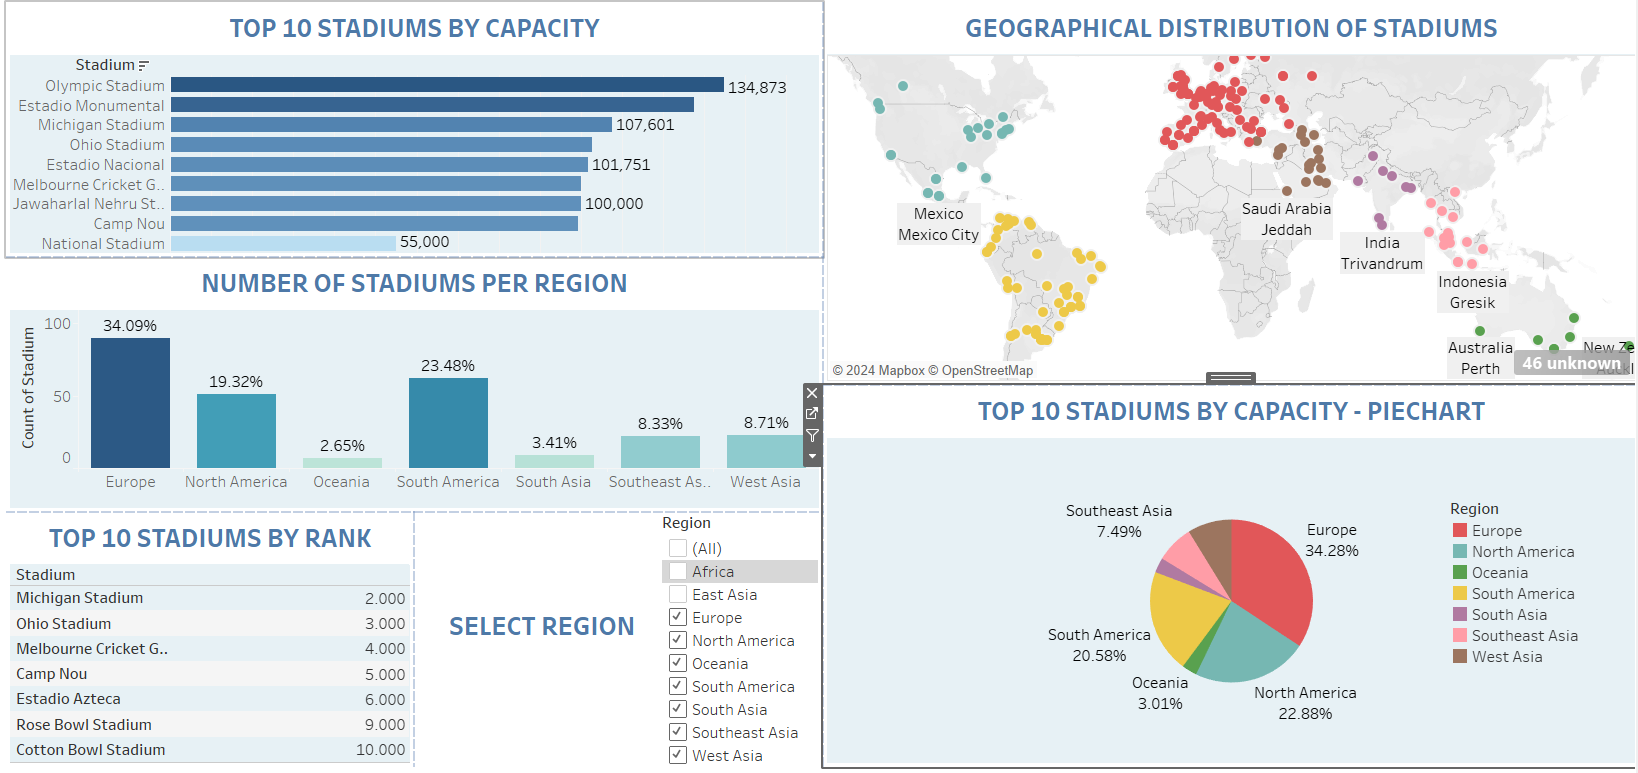

What the dashboard file says about the page in this screenshot:
{"tool":"tableau","page":{"name":"Dashboard 1","canvas":[1000,1000],"units":"permille","ordinal":0},"visuals":[{"type":"worksheet","title":"Top 10 Stadiums by Capacity","mark":"Automatic","rows":["stadium"],"cols":["capacity"],"box":[4.9,10.2,495.1,326.5]},{"type":"worksheet","title":"GEOGRAPHICAL DISTRIBUTION OF STADIUMS","mark":"Automatic","box":[500,10.2,495.2,489.8]},{"type":"worksheet","title":"Number of stadiums per region","mark":"Automatic","rows":["stadium"],"cols":["region"],"box":[4.9,336.7,495.1,326.5]},{"type":"worksheet","title":"TOP 10 STADIUMS BY CAPACITY - PIECHART","mark":"Pie","box":[500,500,495.2,489.8]},{"type":"legend","title":"GEOGRAPHICAL DISTRIBUTION OF STADIUMS","param":"[federated.1my4fqb1svqd9d0zy3w2b0u9pfrq].[none:region:nk]","box":[880,645.3,84.9,270.2]},{"type":"worksheet","title":"TOP 10 STADIUMS BY RANK","mark":"Automatic","rows":["stadium"],"box":[4.9,663.2,247.6,326.5]},{"type":"worksheet","title":"SELECT REGION","mark":"Automatic","box":[252.4,663.2,247.6,326.5]},{"type":"filter","title":"SELECT REGION","param":"[federated.1my4fqb1svqd9d0zy3w2b0u9pfrq].[none:region:nk]","box":[402.4,663.2,94.5,329.1]}]}

Visuals, with their boxes on the dashboard's canvas, which has no fixed pixel size, in thousandths of its width and height (x1, y1, x2, y2). These are canvas units, not pixel positions in the 1638x773 screenshot, which may show the page scaled, cropped or inside an application window:
"Top 10 Stadiums by Capacity" worksheet: select_region(5, 10, 500, 337)
"GEOGRAPHICAL DISTRIBUTION OF STADIUMS" worksheet: select_region(500, 10, 995, 500)
"Number of stadiums per region" worksheet: select_region(5, 337, 500, 663)
"TOP 10 STADIUMS BY CAPACITY - PIECHART" worksheet (Pie marks): select_region(500, 500, 995, 990)
"GEOGRAPHICAL DISTRIBUTION OF STADIUMS" legend: select_region(880, 645, 965, 916)
"TOP 10 STADIUMS BY RANK" worksheet: select_region(5, 663, 252, 990)
"SELECT REGION" worksheet: select_region(252, 663, 500, 990)
"SELECT REGION" filter: select_region(402, 663, 497, 992)
